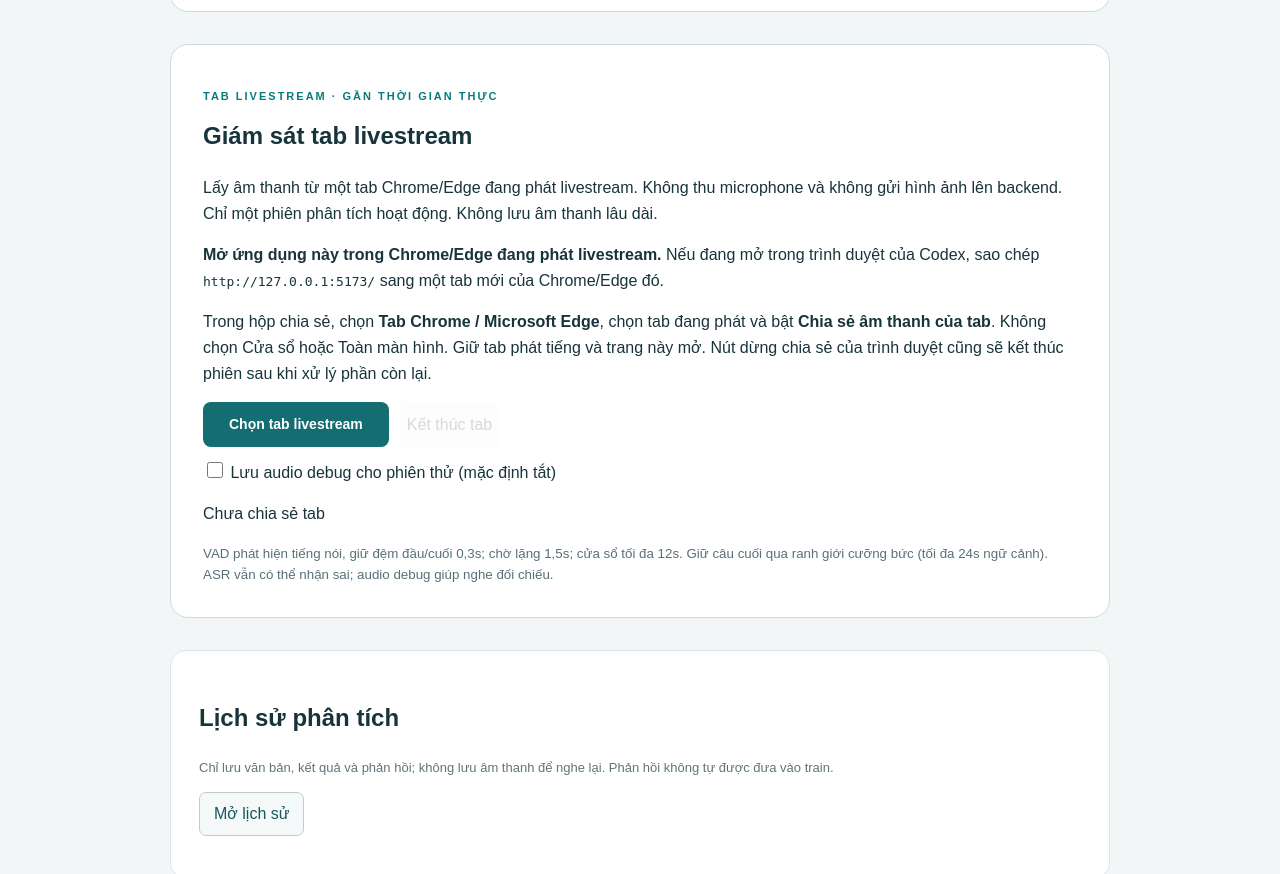
can cancel a pending tab selection and releases a stream that resolves afterwards
The image size is (1280, 874).
(page scrolled)
Click the button "Chọn tab livestream": (296, 424) x1=203 y1=402 x2=389 y2=447
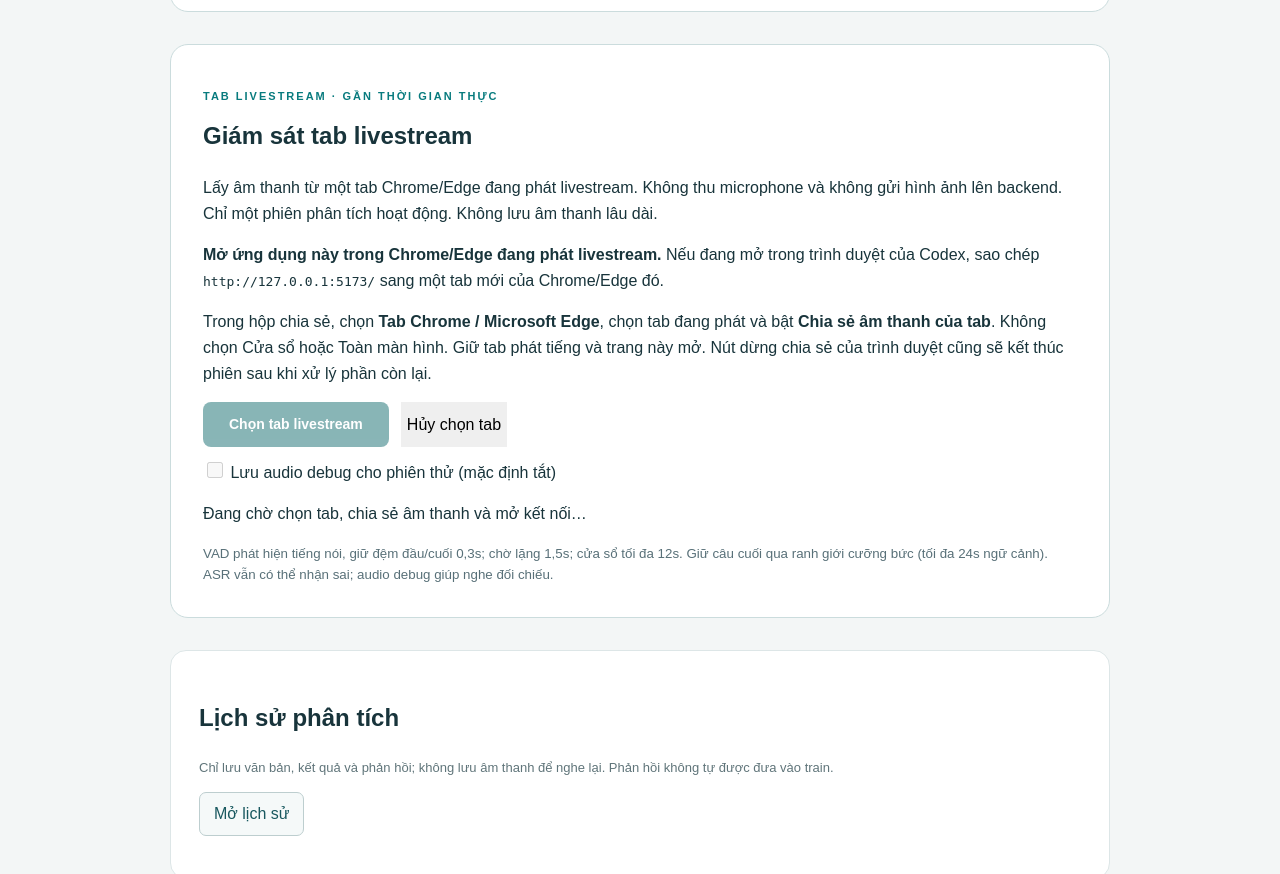
Click the button "Hủy chọn tab": (454, 424) x1=401 y1=402 x2=507 y2=447
(page scrolled)
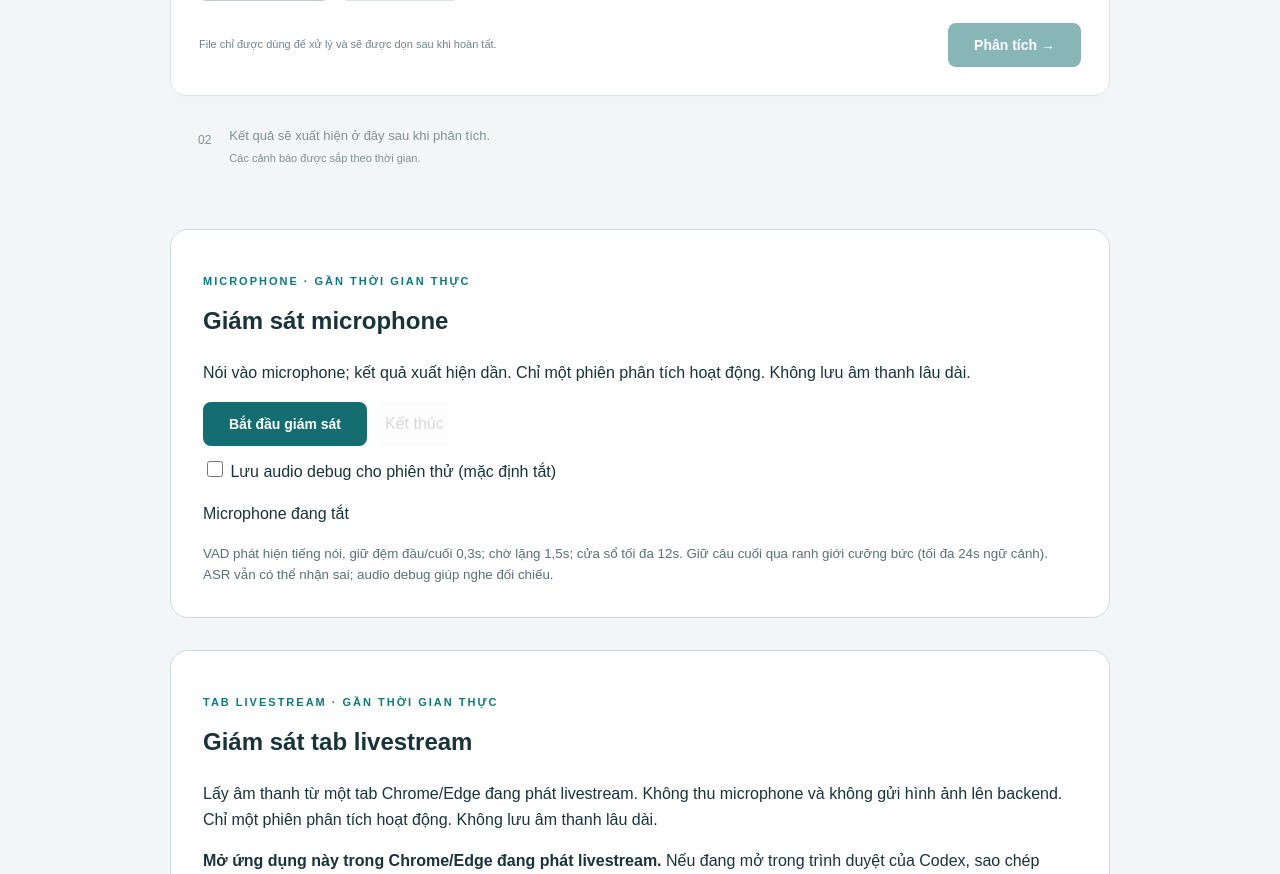
Check: the button "Bắt đầu giám sát" is enabled, box x1=203 y1=402 x2=367 y2=446
